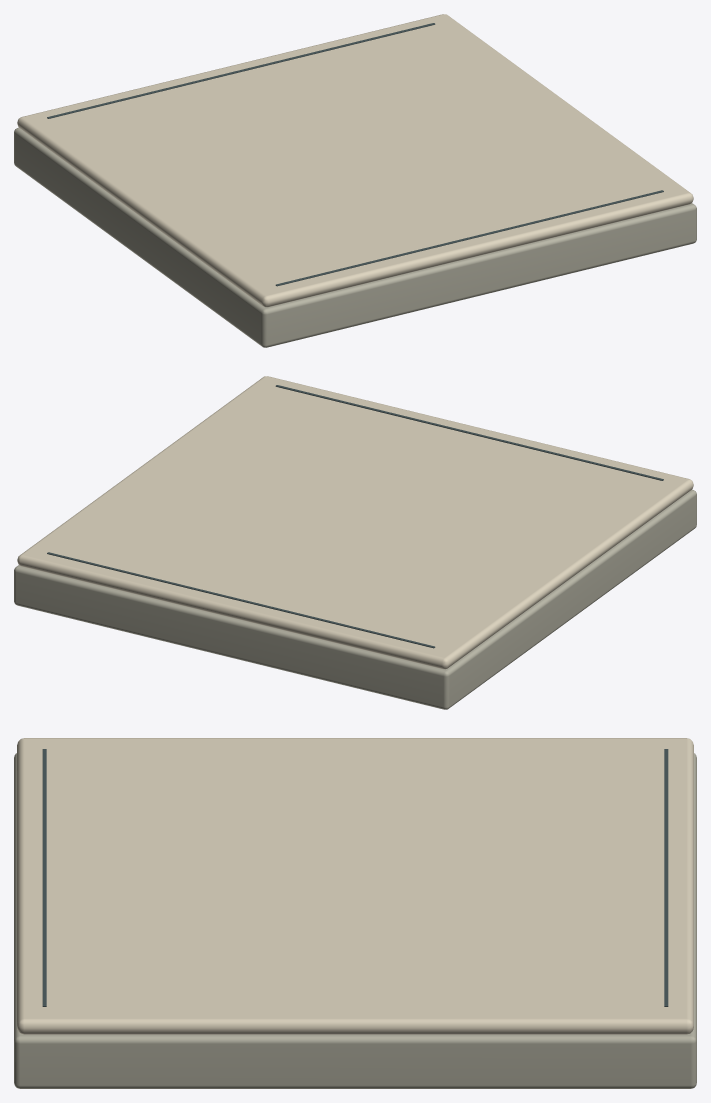
The model's file is roof-center-2m.glb.
3 renders of one model, top to bottom at view 1: azimuth 30°, elevation 25°; view 2: azimuth 150°, elevation 25°; view 3: azimuth 270°, elevation 25°, orthographic. The views are drawn at different scales.
Parts seen in each view (by area): view 1: roof-center-2m / 01 • warm porcelain paint, roof-center-2m / 02 • inner shell, roof-center-2m / 06 • dark anodized frame; view 2: roof-center-2m / 01 • warm porcelain paint, roof-center-2m / 02 • inner shell, roof-center-2m / 06 • dark anodized frame; view 3: roof-center-2m / 01 • warm porcelain paint, roof-center-2m / 02 • inner shell, roof-center-2m / 06 • dark anodized frame.
Boxes of the visible parts, x1,y1,x2,y2 form: roof-center-2m / 01 • warm porcelain paint: (17, 14, 693, 307); roof-center-2m / 02 • inner shell: (14, 127, 696, 347); roof-center-2m / 06 • dark anodized frame: (47, 23, 663, 286); roof-center-2m / 01 • warm porcelain paint: (17, 376, 693, 669); roof-center-2m / 02 • inner shell: (14, 489, 696, 709); roof-center-2m / 06 • dark anodized frame: (47, 385, 663, 648); roof-center-2m / 01 • warm porcelain paint: (17, 738, 693, 1034); roof-center-2m / 02 • inner shell: (14, 753, 696, 1088); roof-center-2m / 06 • dark anodized frame: (42, 749, 668, 1006).
Bounding box in the file's own units: 2 × 0.224 × 2.
